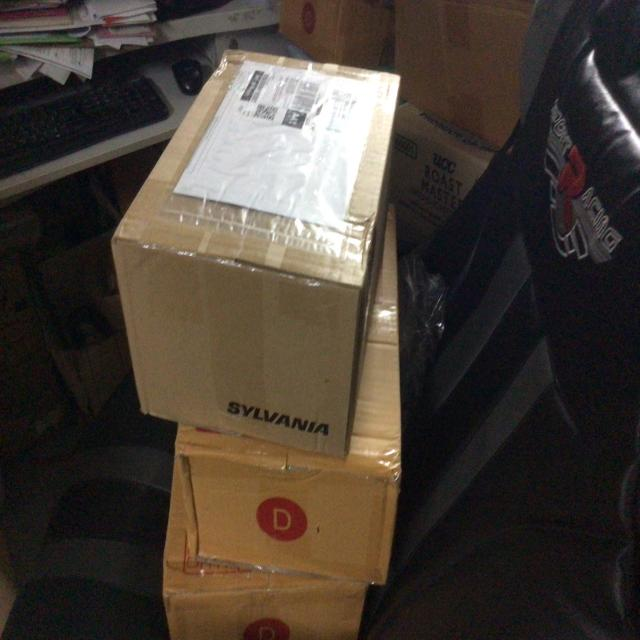cardboard: (122, 50, 399, 458)
